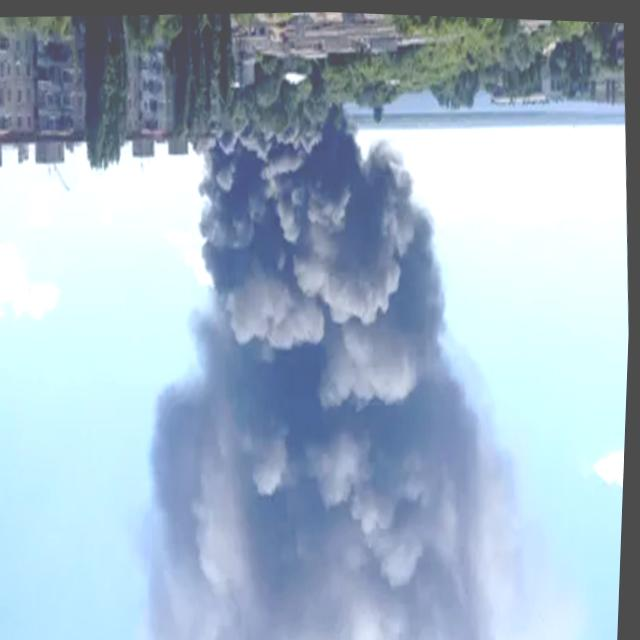no_helmet: (113, 95, 548, 640)
